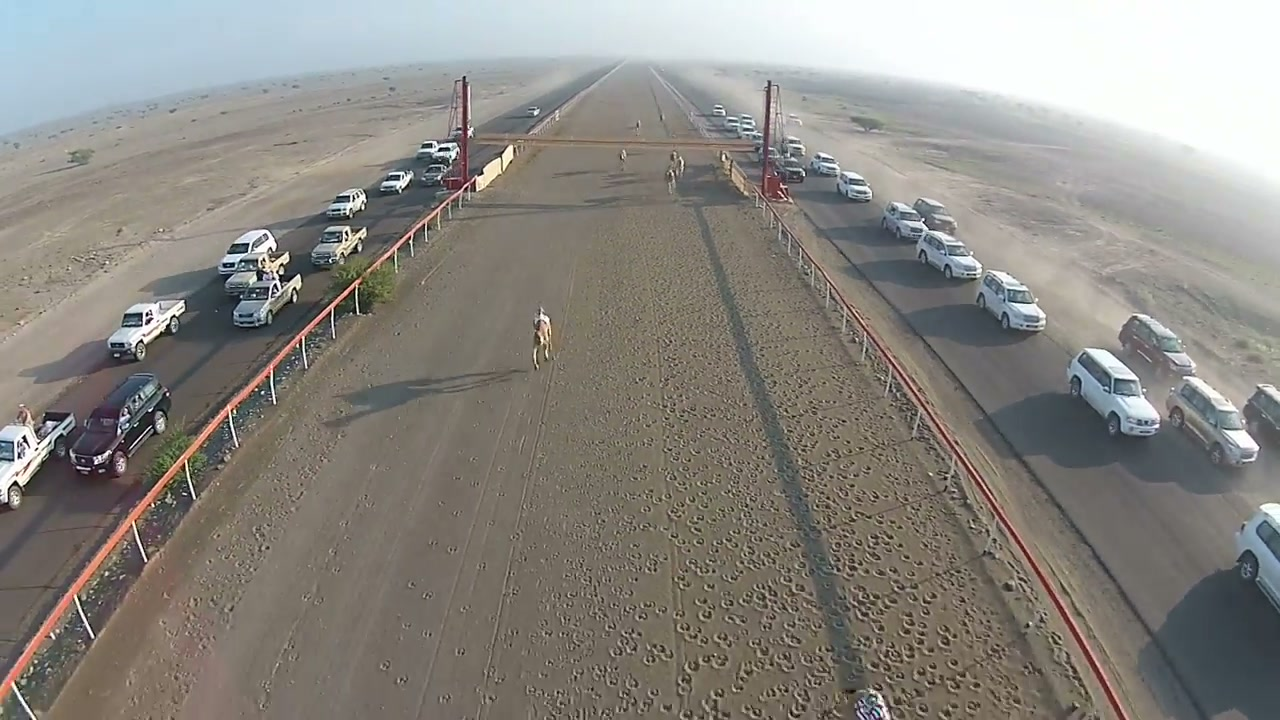animal_footprint: (668, 216, 979, 715), (622, 329, 829, 719)
